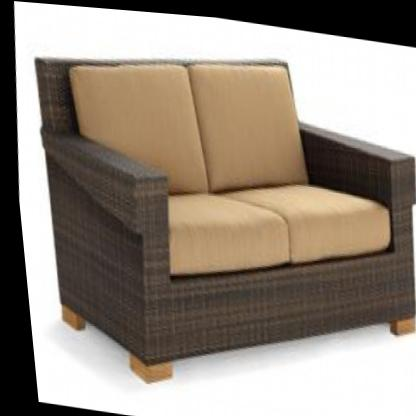Sofa: (9, 15, 416, 416)
